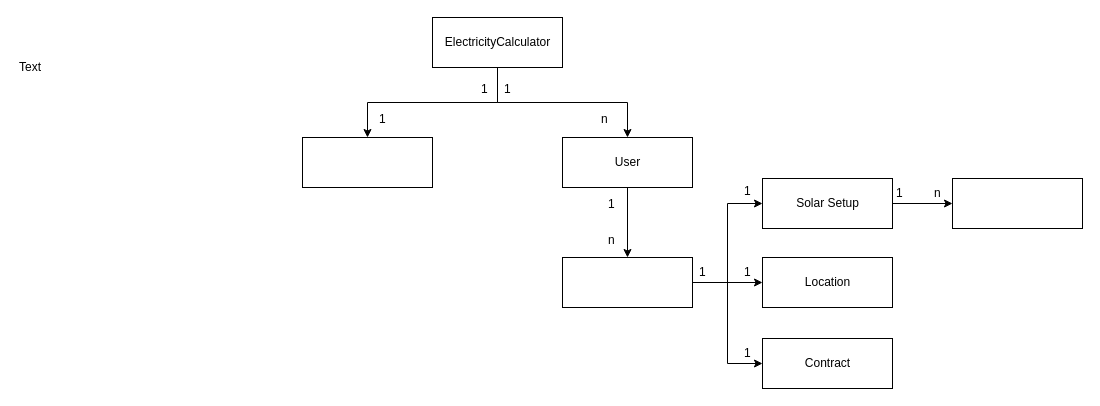
This 1100x406 diagram has some shape labels left out. Each missing label, with the centre of its shape:
"Calculator" belongs at point (367, 162).
"Property" belongs at point (627, 282).
"Solar Panel" belongs at point (1017, 203).
